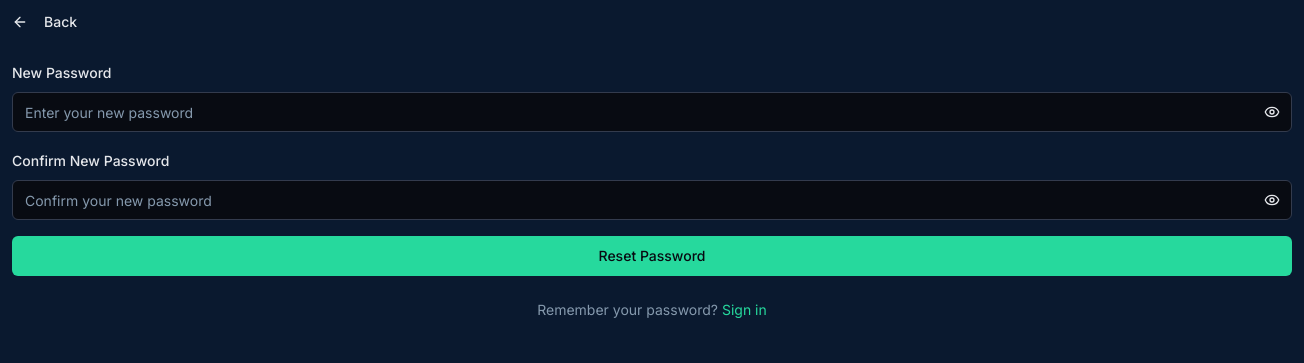
PasswordResetForm › Password Reset Step › should validate password confirmation
Type "StrongPass123!" into the password field with test id "new-password-input" at (652, 112), box [12,92,1292,132]
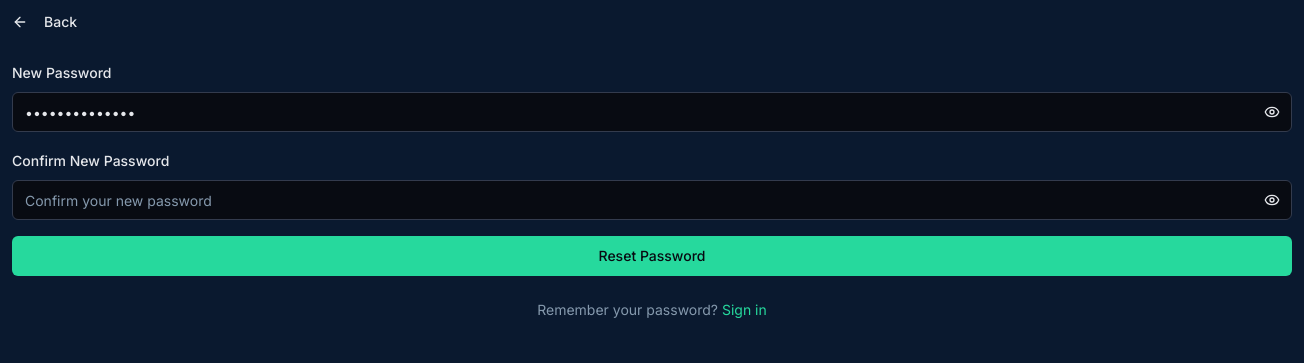
Type "DifferentPass123!" into the password field with test id "confirm-password-input" at (652, 200), box [12,180,1292,220]
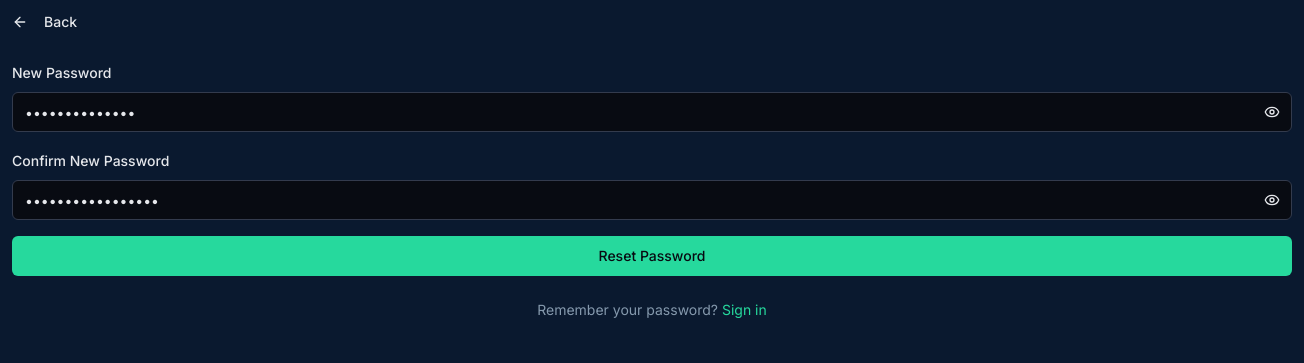
Click the button with test id "reset-password-button" at (652, 256), box [12,236,1292,276]
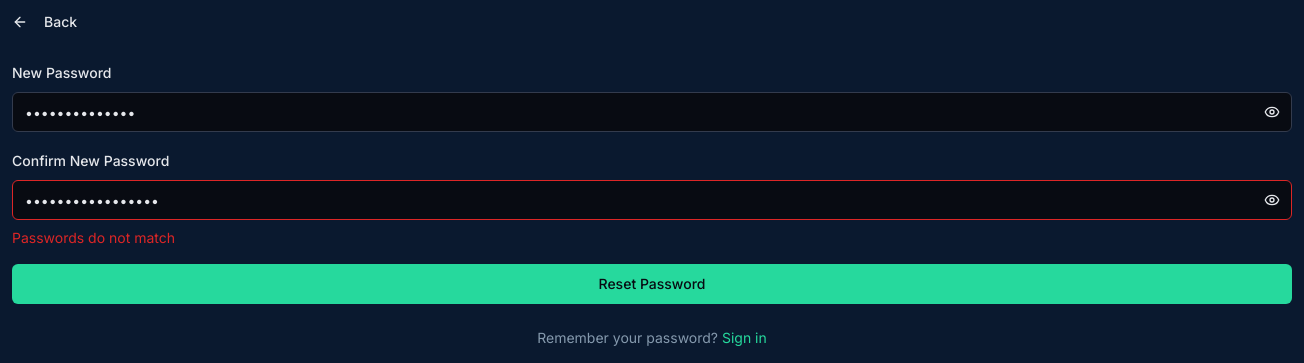
Result: the text with test id "confirm-password-error" reads "Passwords do not match" at [12,229,175,246]
